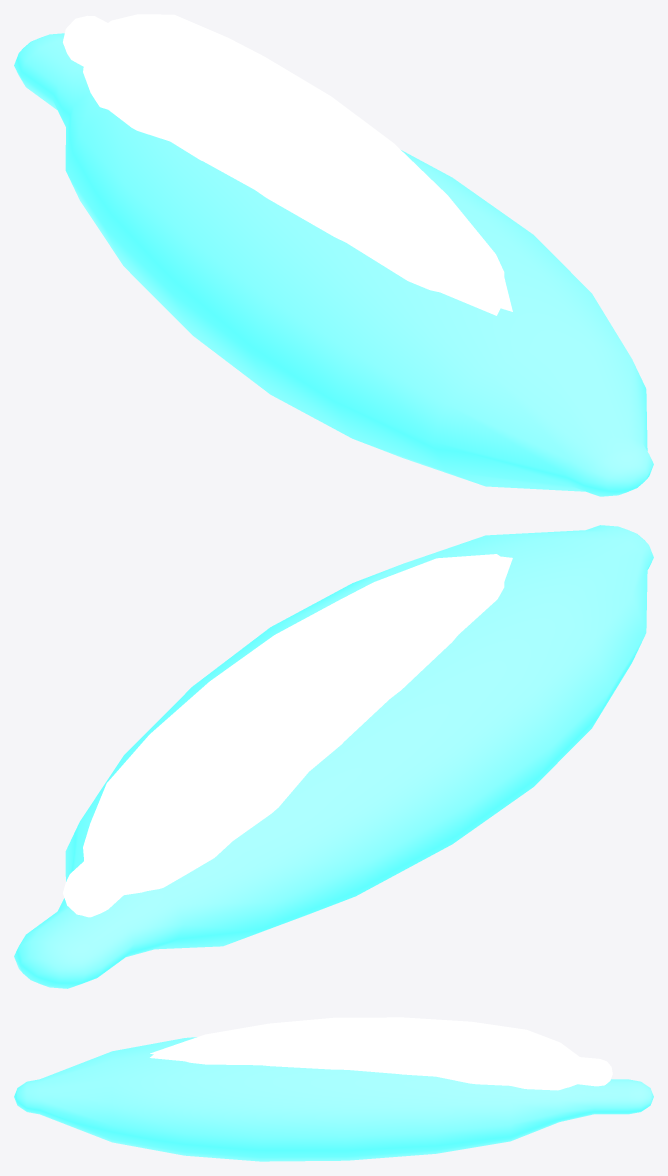
The model's file is shot_pulse.glb.
3 views of the same model, one above another, from view 1: azimuth 30°, elevation 25°; view 2: azimuth 150°, elevation 25°; view 3: azimuth 270°, elevation 25° (orthographic). The views are drawn at different scales.
Parts seen in each view (by area): view 1: shot_pulse; view 2: shot_pulse; view 3: shot_pulse.
Boxes of the visible parts, left/top/right/bottom form: shot_pulse: left=14, top=14, right=653, bottom=496; shot_pulse: left=14, top=525, right=653, bottom=988; shot_pulse: left=14, top=1017, right=653, bottom=1161.
Bounding box in the file's own units: 0.1289 × 0.0937 × 0.435.
